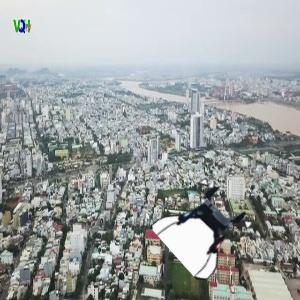drone: (164, 184, 250, 270)
